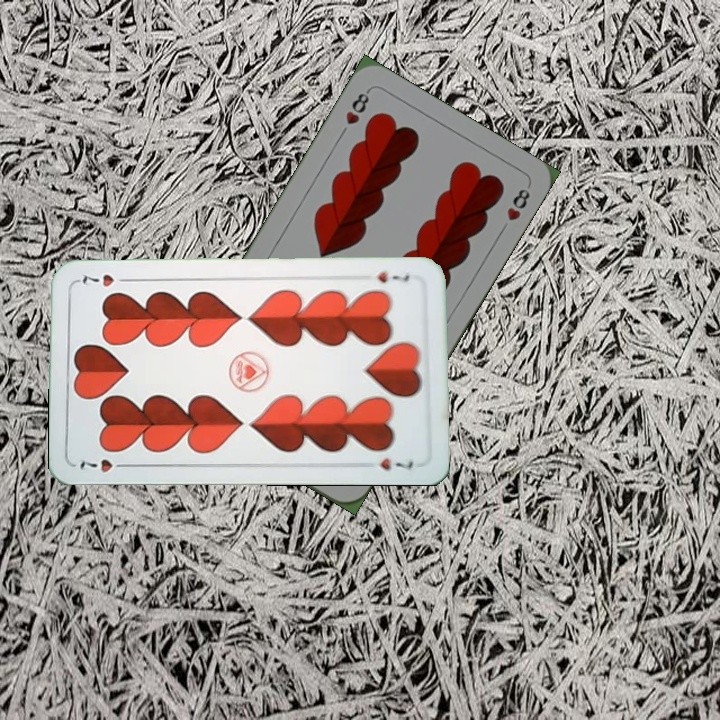H7: (75, 455, 132, 475), (374, 268, 412, 286)
H8: (341, 85, 372, 128)
